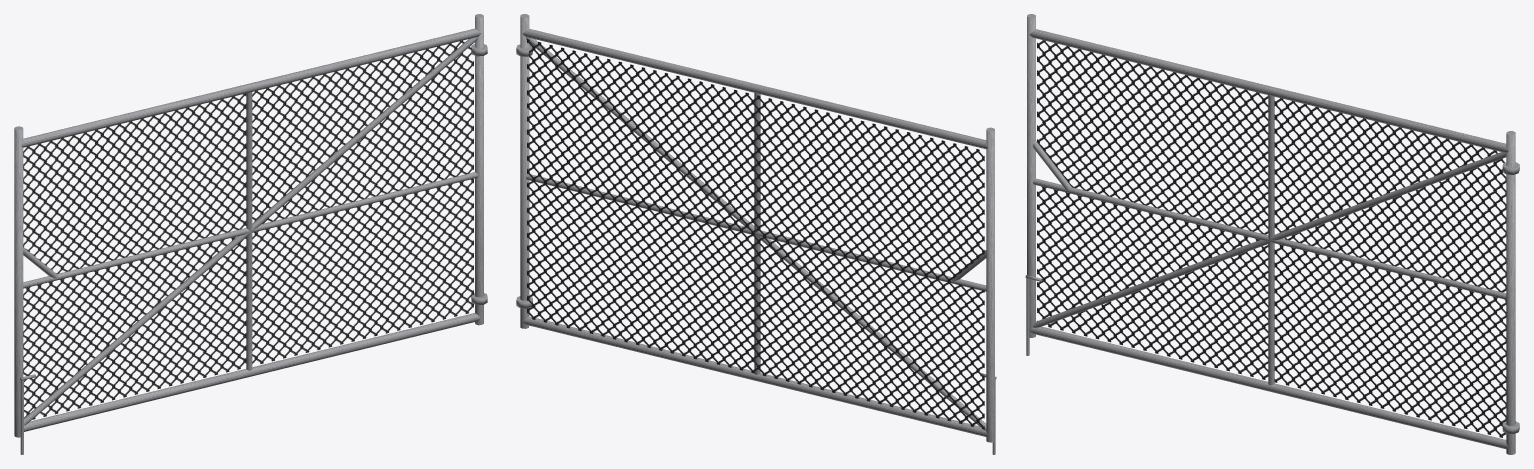
Rendered from fence-tall-gate-3m-LH-cbj_LOD01.gltf.
The picture shows the model from 3 angles, left to right: view 1: azimuth 30°, elevation 25°; view 2: azimuth 150°, elevation 25°; view 3: azimuth 330°, elevation 25°; orthographic projection. The views are drawn at different scales.
Visible parts, largest first — view 1: gate1; view 2: gate1; view 3: gate1.
Part boxes in pixels (x1,y1,x2,y2): gate1: [14, 14, 487, 454]; gate1: [516, 14, 996, 454]; gate1: [1025, 14, 1519, 454].
Size of the model in its own units: 2.97 by 1.95 by 0.0937.
